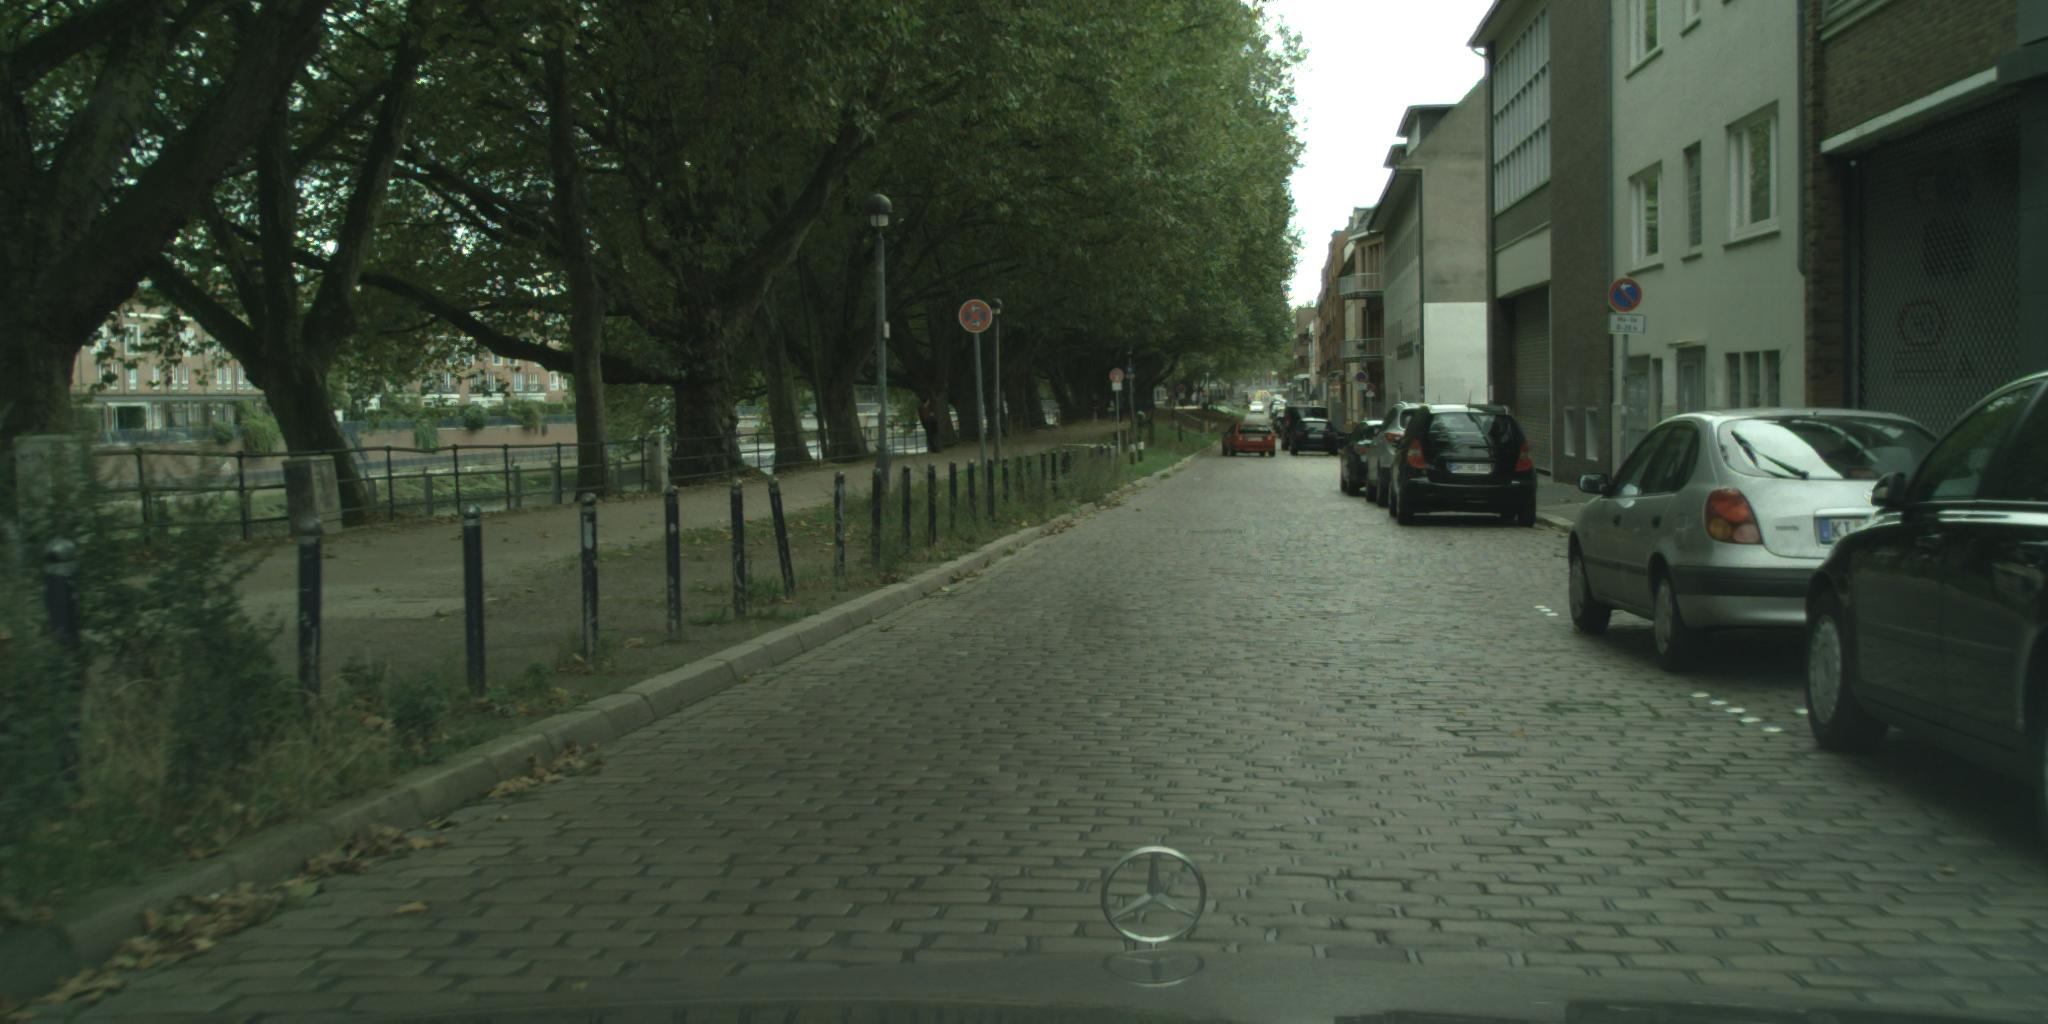car: (1804, 371, 2048, 852), (1567, 408, 1971, 675), (1388, 404, 1540, 528), (1364, 402, 1433, 508), (1339, 421, 1405, 498), (1290, 418, 1340, 458), (1223, 423, 1277, 457), (1249, 401, 1266, 415)
